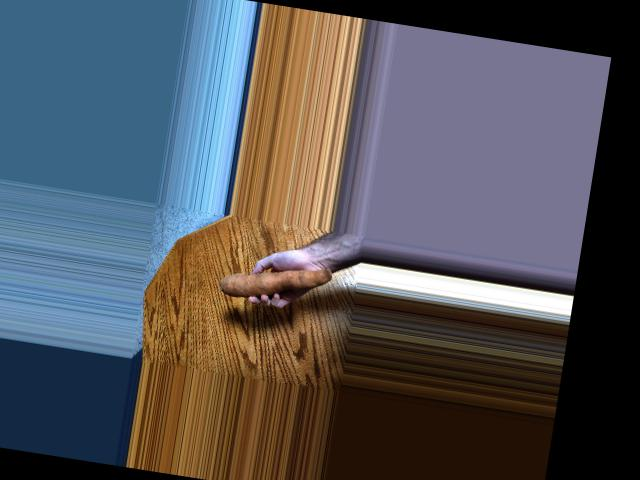sweet_potato: (215, 256, 328, 312)
